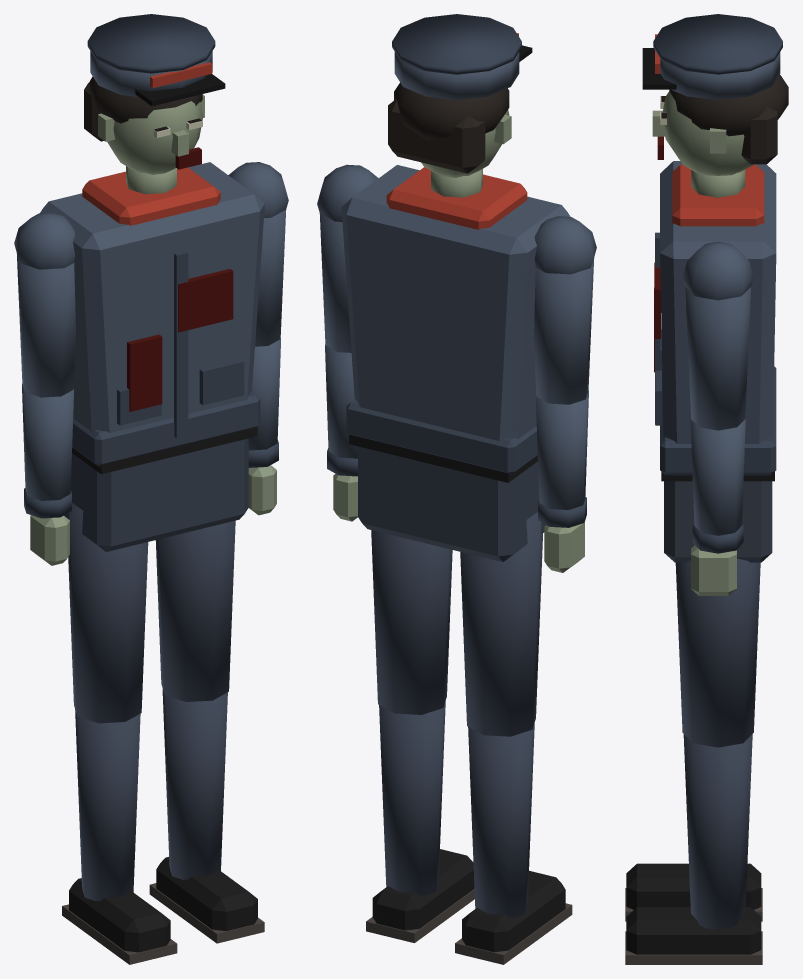
Rendered from zombie_e.glb.
3 views of the same model, side by side, from view 1: azimuth 30°, elevation 25°; view 2: azimuth 150°, elevation 25°; view 3: azimuth 270°, elevation 25° (orthographic).
Visible parts, largest first — view 1: Torso, Head, ShinR, ShinL, Hips, LegR, LegL, ArmR, ForearmR, ArmL, ForearmL; view 2: Torso, Head, ShinR, Hips, ShinL, LegR, LegL, ArmR, ForearmR, ArmL, ForearmL; view 3: Torso, Head, ShinL, LegL, ArmL, ForearmL, Hips, ShinR.
Part boxes in pixels (x1,y1,x2,y2): Torso: (40,162,264,466); Head: (84,14,225,194); ShinR: (62,709,177,964); ShinL: (149,689,264,943); Hips: (64,426,257,551); LegR: (68,503,148,723); LegL: (155,520,235,701); ArmR: (14,212,75,397); ForearmR: (22,384,73,565); ArmL: (228,162,288,346); ForearmL: (248,338,280,515); Torso: (341,165,570,475); Head: (388,14,532,197); ShinR: (455,723,572,964); Hips: (349,434,545,561); ShinL: (366,701,474,942); LegR: (460,512,542,736); LegL: (371,530,452,714); ArmR: (534,216,596,404); ForearmR: (535,391,588,572); ArmL: (317,164,378,352); ForearmL: (325,345,357,521); Torso: (654,161,776,475); Head: (642,14,788,197); ShinL: (625,734,762,964); LegL: (675,558,760,747); ArmL: (682,241,753,430); ForearmL: (690,419,745,595); Hips: (661,472,774,562); ShinR: (625,863,762,921).
Size of the model in its own units: 0.582 by 1.82 by 0.3026.
